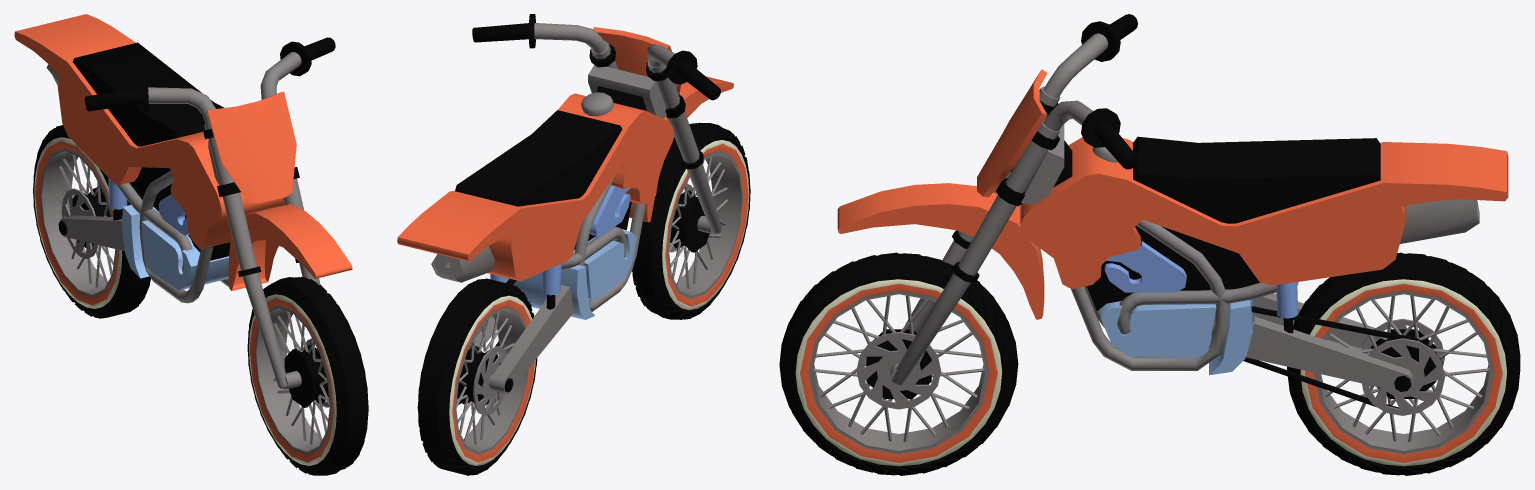
Rendered from bike 3.fbx.
The picture shows the model from 3 angles, left to right: view 1: azimuth 30°, elevation 25°; view 2: azimuth 150°, elevation 25°; view 3: azimuth 270°, elevation 25°; orthographic projection. The views are drawn at different scales.
Parts seen in each view (by area): view 1: body.009, tyre.008, tyre.009; view 2: body.009, tyre.009, tyre.008; view 3: body.009, tyre.008, tyre.009.
Part boxes in pixels (box(x1,y1,x2,y2)): body.009: box(14, 14, 352, 388); tyre.008: box(247, 277, 368, 475); tyre.009: box(33, 125, 150, 318); body.009: box(397, 14, 733, 404); tyre.009: box(417, 278, 537, 475); tyre.008: box(632, 122, 750, 319); body.009: box(837, 14, 1508, 408); tyre.008: box(779, 252, 1018, 475); tyre.009: box(1287, 252, 1520, 475).
Size of the model in its own units: 1.04 by 1.37 by 2.27.
